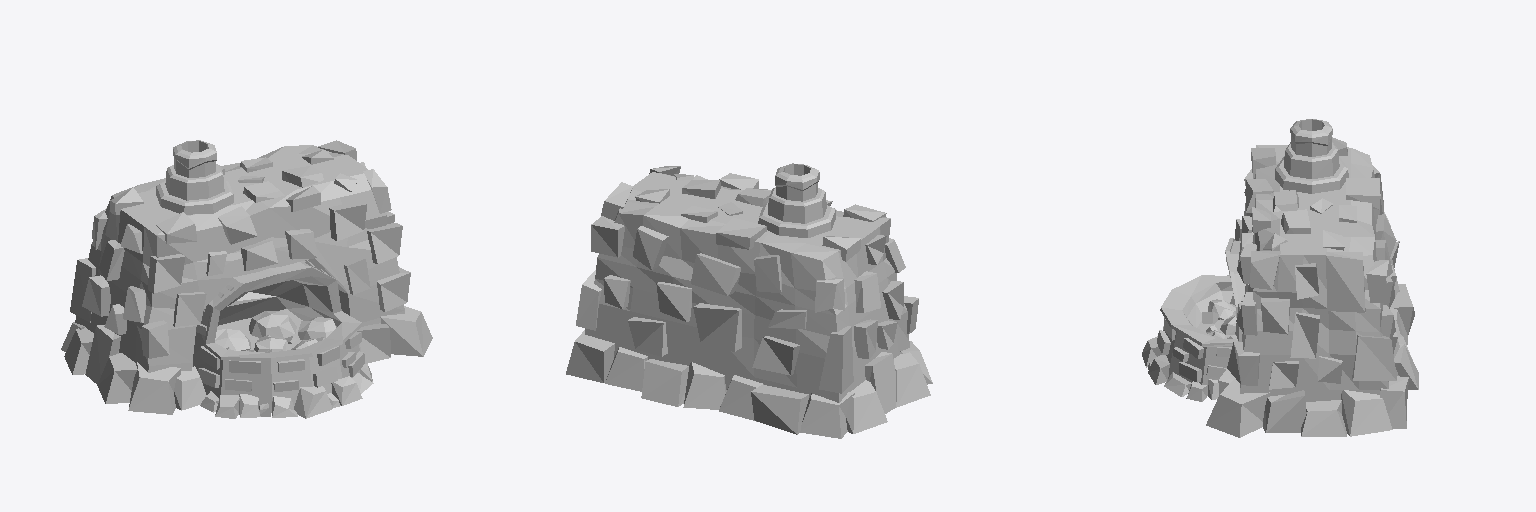
Rendered from ForgeFurnace.obj.
3 views of the same model, side by side, from view 1: azimuth 30°, elevation 25°; view 2: azimuth 150°, elevation 25°; view 3: azimuth 270°, elevation 25° (orthographic).
Parts seen in each view (by area): view 1: Furnace_B; view 2: Furnace_B; view 3: Furnace_B.
Part boxes in pixels (x1,y1,x2,y2): Furnace_B: (61,140,432,418); Furnace_B: (566,163,932,438); Furnace_B: (1142,119,1418,437).
Bounding box in the file's own units: 4.44 × 2.94 × 3.4.